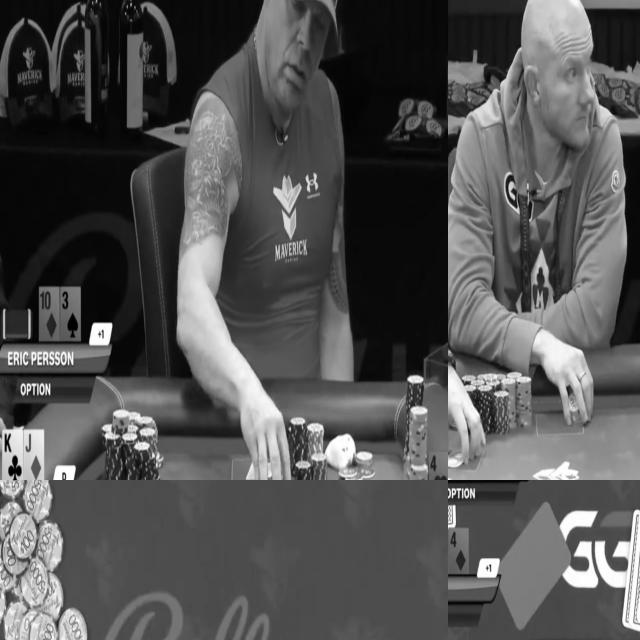10D: (40, 288, 58, 340)
3S: (62, 288, 79, 341)
4H: (429, 451, 448, 480)
JD: (24, 431, 43, 480)
KC: (3, 430, 22, 480)
